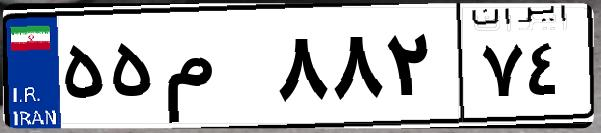2: (385, 28, 445, 110)
4: (525, 38, 570, 115)
5: (57, 26, 110, 100), (110, 28, 158, 98)
7: (475, 38, 525, 113)
8: (270, 28, 330, 110), (330, 28, 385, 110)
م: (158, 20, 270, 120)
